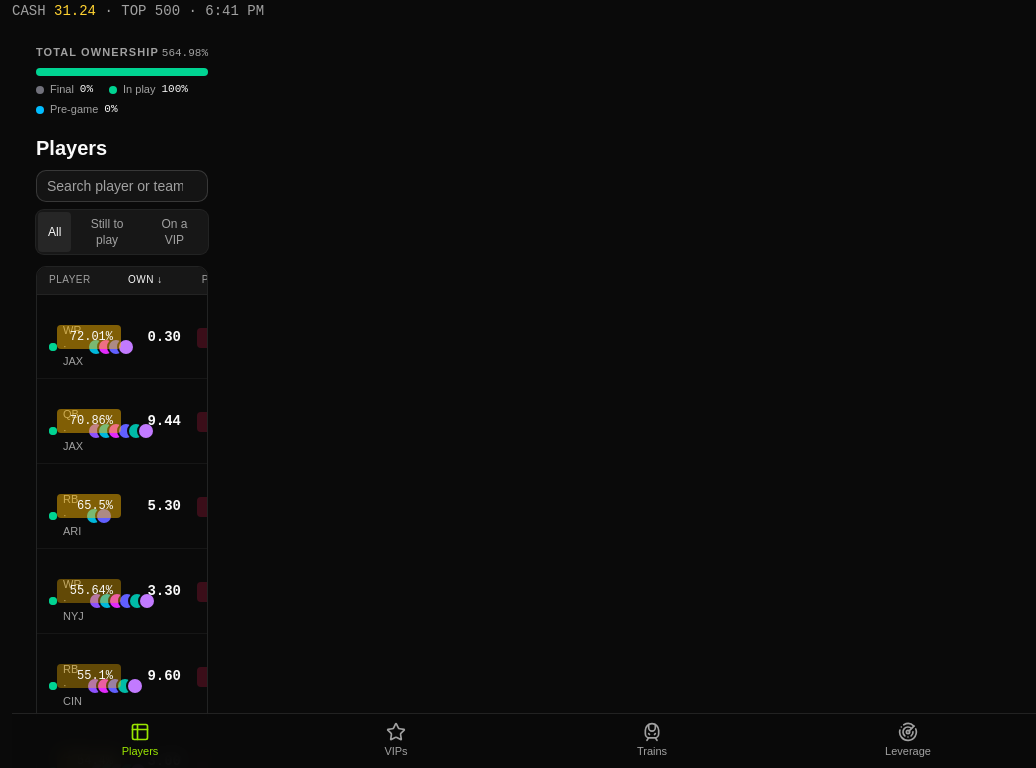
it: Leverage panel › placement › is its own tab on phones and stays off the other tabs
Step 1. Click the link "Leverage" → (908, 740), box x1=885 y1=722 x2=931 y2=757
(page scrolled)
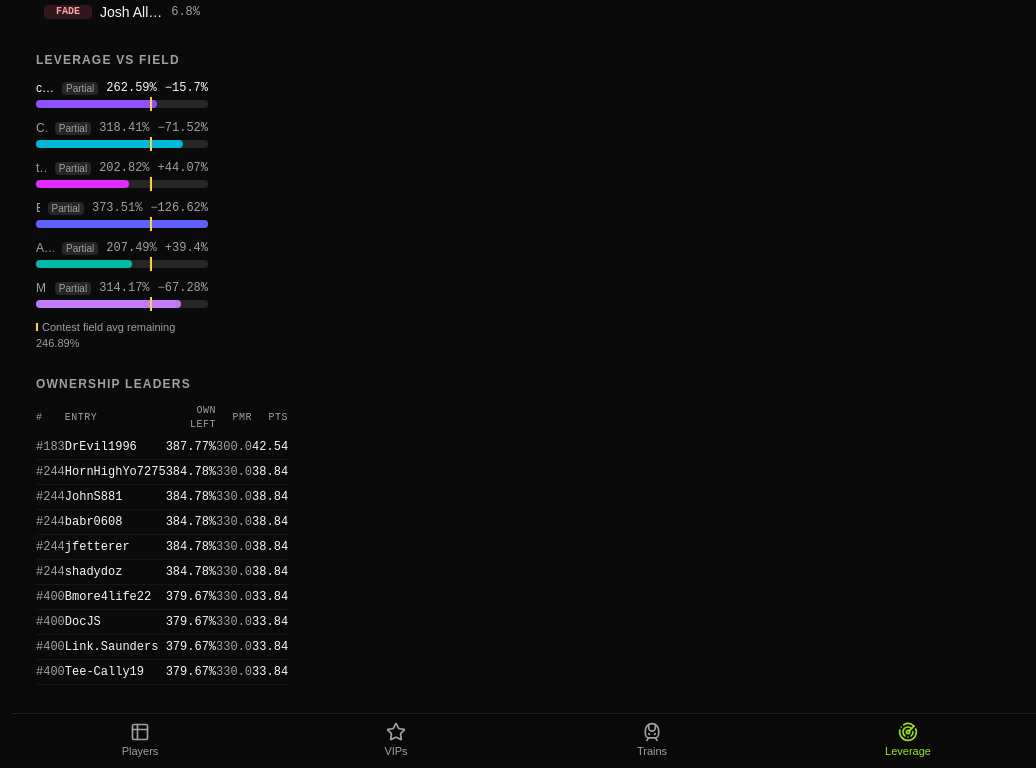
Now the heading "Leverage vs field" is shown, box x1=36 y1=53 x2=180 y2=67
Now the heading "Ownership leaders" is shown, box x1=36 y1=376 x2=208 y2=392
